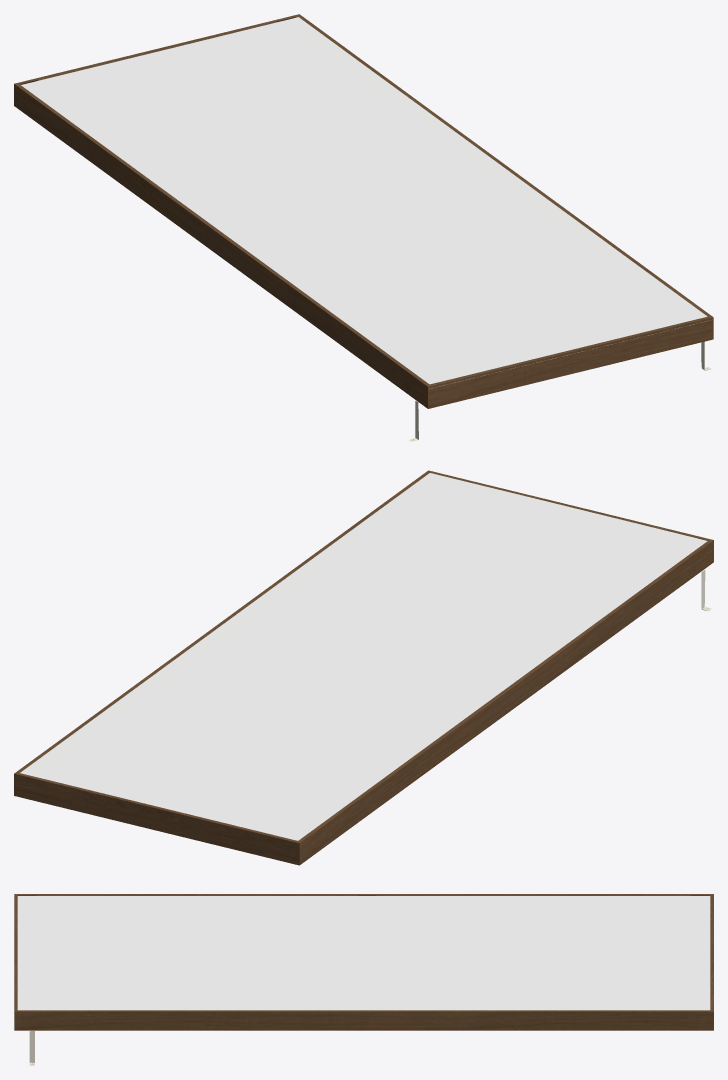
Rendered from 02 - HOVET Mirror - oak effectbrown 78x196 cm.glb.
The picture shows the model from 3 angles, top to bottom: view 1: azimuth 30°, elevation 25°; view 2: azimuth 150°, elevation 25°; view 3: azimuth 270°, elevation 25°; orthographic projection. The views are drawn at different scales.
Visible parts, largest first — view 1: ASY_ART_60625599_S01_NV01; view 2: ASY_ART_60625599_S01_NV01; view 3: ASY_ART_60625599_S01_NV01.
Boxes of the visible parts, <box> form: ASY_ART_60625599_S01_NV01: <box>14,14,713,441</box>; ASY_ART_60625599_S01_NV01: <box>14,470,713,865</box>; ASY_ART_60625599_S01_NV01: <box>14,894,713,1065</box>.
Size of the model in its own units: 0.82 by 0.1579 by 1.96.
2 materials, 2 textured.
